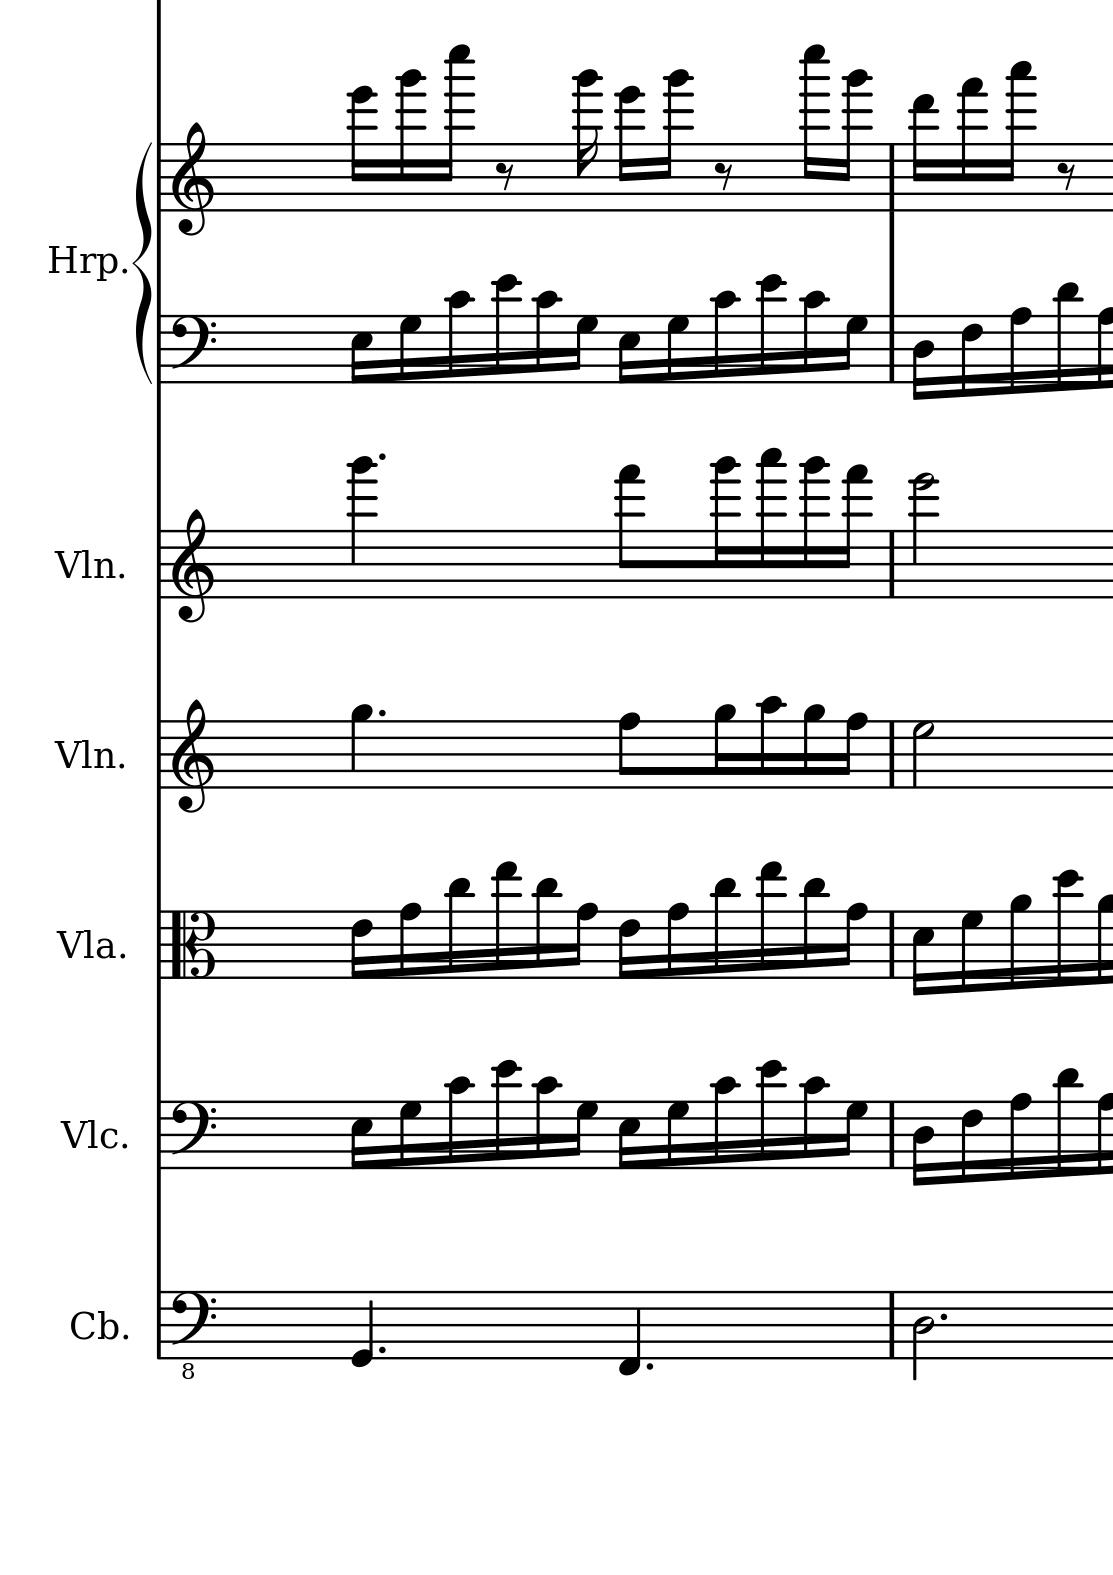16_10: (530, 1075, 563, 1173), (799, 290, 831, 387), (755, 695, 788, 791), (709, 1074, 741, 1173), (709, 289, 741, 387), (531, 290, 563, 387), (444, 289, 475, 387), (444, 1075, 475, 1170), (800, 1075, 829, 1170)
16_11: (1053, 281, 1082, 394), (1053, 1067, 1080, 1178), (799, 877, 828, 981), (711, 877, 740, 980), (444, 878, 473, 980), (532, 878, 560, 980)
16_12: (1054, 866, 1084, 991), (756, 1058, 787, 1175), (491, 272, 522, 388), (756, 272, 787, 388), (491, 1058, 522, 1173)
16_13: (756, 859, 785, 984), (909, 93, 936, 213), (493, 861, 517, 980)
16_14: (347, 84, 376, 214), (616, 85, 644, 213)
16_15: (837, 464, 872, 600), (956, 77, 987, 213)
16_16: (656, 70, 695, 213), (835, 67, 872, 213), (711, 455, 744, 600), (572, 67, 603, 213), (395, 69, 426, 213), (797, 455, 829, 600)
16_17: (1000, 60, 1036, 213), (754, 446, 787, 600)
16_19: (438, 45, 475, 213), (797, 43, 830, 213)
16_4: (909, 314, 935, 402), (911, 1101, 934, 1188)
16_5: (909, 909, 935, 998), (616, 313, 642, 387), (348, 313, 373, 387), (616, 1101, 642, 1170), (348, 1099, 373, 1170)
16_6: (959, 314, 984, 399), (959, 1101, 984, 1184), (616, 909, 641, 980), (349, 909, 373, 980)
16_7: (569, 313, 600, 387), (838, 312, 868, 387), (838, 1098, 868, 1172), (569, 1099, 599, 1170), (959, 909, 984, 993), (664, 313, 690, 387), (397, 313, 423, 387), (397, 1099, 423, 1170), (665, 1099, 690, 1170)
16_8: (567, 899, 599, 983), (836, 710, 868, 790), (837, 901, 868, 981), (1008, 305, 1033, 397), (1008, 1092, 1033, 1182), (665, 901, 691, 981), (397, 901, 423, 981), (1095, 1092, 1113, 1176), (1096, 306, 1113, 391)
16_9: (1008, 893, 1033, 991), (801, 704, 826, 790), (713, 703, 737, 790), (1096, 893, 1113, 986)
2_14: (909, 470, 937, 600)
2_4: (911, 1290, 935, 1382)
2_7: (909, 719, 936, 791)
4_-1: (616, 1290, 642, 1378)
4_0: (349, 1288, 376, 1369)
4_16: (344, 454, 378, 598)
4_9: (349, 703, 373, 790)
8_15: (614, 464, 646, 600)
8_8: (617, 710, 642, 791)
Brace: (132, 141, 157, 390)
Cclef: (169, 909, 219, 980)
Fclef: (169, 314, 218, 387), (169, 1101, 218, 1173)
Gclef: (170, 120, 217, 238), (170, 507, 216, 625), (170, 698, 214, 815)
Hrp: (46, 241, 114, 287)
Lower_Fclef: (169, 1287, 219, 1382)
Ob: (70, 1305, 118, 1347)
Rests8: (491, 160, 516, 191), (1055, 161, 1079, 191), (712, 160, 735, 191)
Single_barline: (881, 1102, 903, 1169), (879, 315, 902, 382), (881, 912, 902, 979), (882, 721, 903, 787), (151, 1101, 171, 1169), (881, 144, 901, 210), (151, 1291, 170, 1359), (151, 912, 170, 979), (882, 1292, 901, 1359), (151, 529, 169, 598), (151, 721, 169, 790), (882, 531, 900, 598), (153, 143, 167, 213), (154, 315, 169, 385)
Vla: (55, 924, 117, 971)
Vlc: (59, 1114, 119, 1160)
Vln: (54, 542, 116, 584), (55, 732, 116, 773)
dot: (883, 1290, 900, 1359), (641, 1359, 658, 1374), (936, 1311, 952, 1325), (642, 1359, 655, 1373), (375, 1344, 387, 1357), (375, 452, 387, 464), (375, 707, 387, 719)
